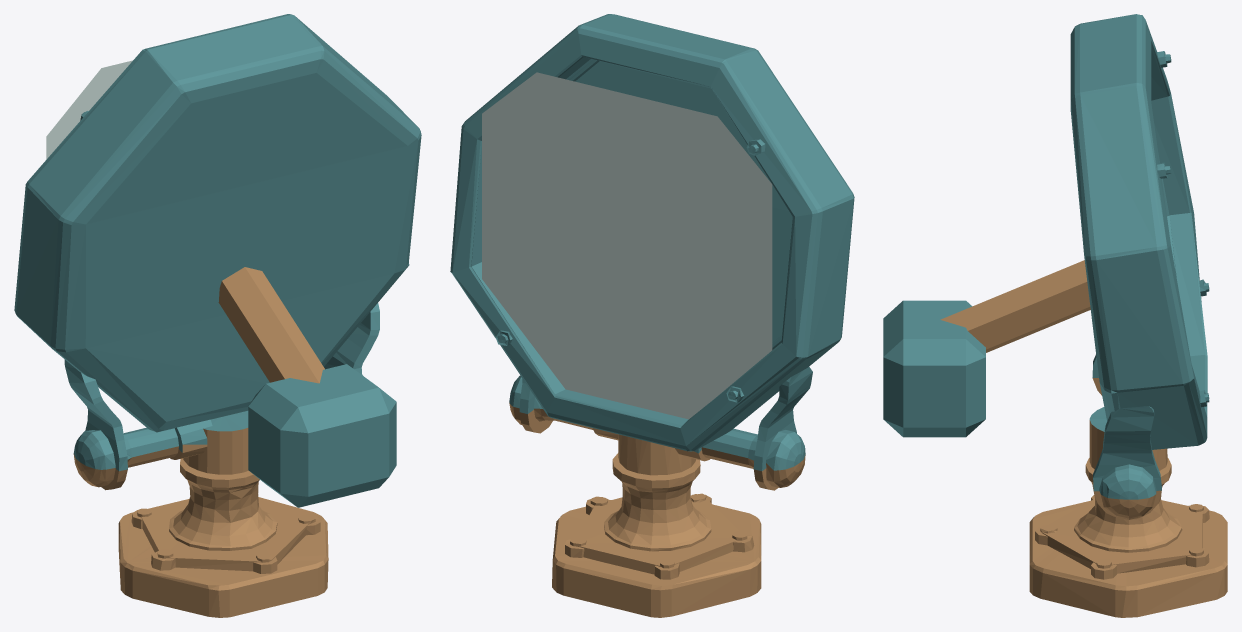
File: miroir_tete.glb
3 renders of one model, left to right at view 1: azimuth 30°, elevation 25°; view 2: azimuth 150°, elevation 25°; view 3: azimuth 270°, elevation 25°, orthographic. The views are drawn at different scales.
Parts seen in each view (by area): view 1: Tête du miroir, Contrepoids, Bras du contrepoids, Verre du miroir; view 2: Tête du miroir, Verre du miroir; view 3: Tête du miroir, Contrepoids, Bras du contrepoids.
Part boxes in pixels (bbox=[...]): Tête du miroir: bbox=[14, 14, 421, 617]; Contrepoids: bbox=[248, 364, 396, 507]; Bras du contrepoids: bbox=[218, 267, 324, 383]; Verre du miroir: bbox=[46, 60, 132, 159]; Tête du miroir: bbox=[450, 14, 854, 617]; Verre du miroir: bbox=[482, 72, 772, 419]; Tête du miroir: bbox=[1029, 14, 1227, 617]; Contrepoids: bbox=[883, 300, 985, 437]; Bras du contrepoids: bbox=[940, 260, 1090, 352].
Size of the model in its own units: 0.7158 by 1.01 by 0.6036.
